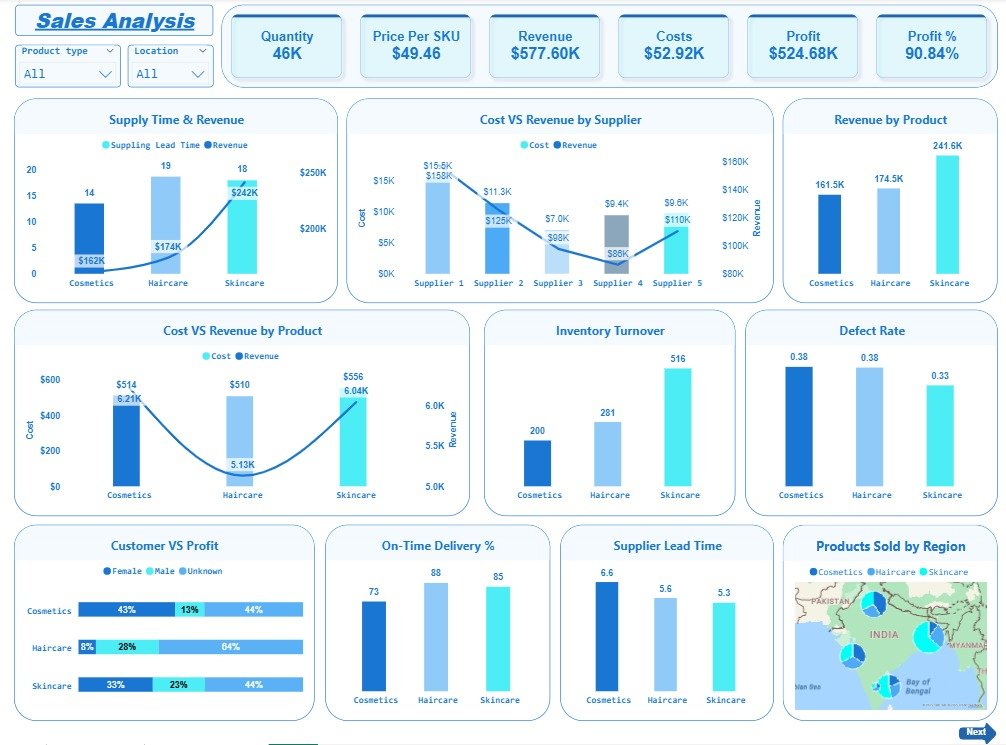

The dashboard page shown, as its layout file describes it:
{"tool":"powerbi","page":{"name":"Sales","canvas":[1345,1000],"ordinal":0},"visuals":[{"type":"cardVisual","fields":{"Data":["Key Measures.units sold","Key Measures.Avg price","Key Measures.Total Revenue","Key Measures.Total costs","Key Measures.Total profit","Key Measures.Profit margin"]},"box":[296.6,11.7,1035.5,110.6],"z":0},{"type":"clusteredColumnChart","title":"Revenue by Product","fields":{"Category":["supply_chain_data.Product type"],"Y":["Sum(supply_chain_data.Revenue generated)"]},"box":[1045.6,137.4,286.5,273.1],"z":1000},{"type":"lineClusteredColumnComboChart","title":"Cost VS Revenue by Product","fields":{"Y":["Avg(supply_chain_data.Costs)"],"Y2":["Avg(supply_chain_data.Revenue generated)"],"Category":["supply_chain_data.Product type"]},"box":[20.1,418.9,608.2,274.8],"z":2000},{"type":"lineStackedColumnComboChart","title":"Cost VS Revenue by Supplier","fields":{"Category":["supply_chain_data.Supplier name"],"Y":["Sum(supply_chain_data.Costs)"],"Y2":["Key Measures.Total Revenue"]},"box":[464.1,137.4,569.7,273.1],"z":3000},{"type":"lineClusteredColumnComboChart","title":"Supply Time & Revenue","fields":{"Category":["supply_chain_data.Product type"],"Y2":["Key Measures.Total Revenue"],"Y":["Key Measures.AVG suppling lead time"]},"box":[20.1,137.4,432.3,273.1],"z":4000},{"type":"slicer","fields":{"Values":["supply_chain_data.Location"]},"box":[171.1,65.4,114.1,57],"z":5000},{"type":"slicer","fields":{"Values":["supply_chain_data.Product type"]},"box":[20.9,65.4,140.5,57],"z":6000},{"type":"textbox","box":[20.9,11.1,264.3,41.7],"z":7000},{"type":"actionButton","box":[1280.2,966.8,51.9,33.5],"z":8000},{"type":"hundredPercentStackedBarChart","title":"Customer VS Profit","fields":{"Category":["supply_chain_data.Product type"],"Y":["Key Measures.Total profit"],"Series":["supply_chain_data.Customer demographics"]},"box":[20.1,705.4,400.5,261.4],"z":9000},{"type":"azureMap","title":"Products Sold by Region","fields":{"Category":["supply_chain_data.Location"],"Size":["Sum(supply_chain_data.Number of products sold)"],"Series":["supply_chain_data.Product type"]},"box":[1045.6,705.4,286.5,261.4],"z":10000},{"type":"clusteredColumnChart","title":"Inventory Turnover ","fields":{"Y":["Key Measures.Inventory Turnover"],"Category":["supply_chain_data.Product type"]},"box":[646.8,418.9,335.1,274.8],"z":11000},{"type":"clusteredColumnChart","title":"Supplier Lead Time","fields":{"Y":["Key Measures.Supplier Lead Time"],"Category":["supply_chain_data.Product type"]},"box":[749,705.4,284.9,261.4],"z":12000},{"type":"clusteredColumnChart","title":"Defect Rate","fields":{"Y":["Key Measures.Defect Rate"],"Category":["supply_chain_data.Product type"]},"box":[995.3,418.9,336.8,274.8],"z":13000},{"type":"clusteredColumnChart","title":"On-Time Delivery %","fields":{"Y":["Key Measures.OnTime Delivery %"],"Category":["supply_chain_data.Product type"]},"box":[435.7,705.4,299.9,261.4],"z":14000}]}

Visuals, with their boxes in screenshot pixels (x1, y1, x2, y2), scaled from the page's 1345x1000 canvas onto the 1006x745 screenshot:
cardVisual - Key Measures.units sold x Key Measures.Avg price: <region>222, 9, 996, 91</region>
"Revenue by Product" clusteredColumnChart: <region>782, 102, 996, 306</region>
"Cost VS Revenue by Product" lineClusteredColumnComboChart: <region>15, 312, 470, 517</region>
"Cost VS Revenue by Supplier" lineStackedColumnComboChart: <region>347, 102, 773, 306</region>
"Supply Time & Revenue" lineClusteredColumnComboChart: <region>15, 102, 338, 306</region>
slicer - supply_chain_data.Location: <region>128, 49, 213, 91</region>
slicer - supply_chain_data.Product type: <region>16, 49, 121, 91</region>
textbox: <region>16, 8, 213, 39</region>
actionButton: <region>958, 720, 996, 744</region>
"Customer VS Profit" hundredPercentStackedBarChart: <region>15, 526, 315, 720</region>
"Products Sold by Region" azureMap: <region>782, 526, 996, 720</region>
"Inventory Turnover " clusteredColumnChart: <region>484, 312, 734, 517</region>
"Supplier Lead Time" clusteredColumnChart: <region>560, 526, 773, 720</region>
"Defect Rate" clusteredColumnChart: <region>744, 312, 996, 517</region>
"On-Time Delivery %" clusteredColumnChart: <region>326, 526, 550, 720</region>
